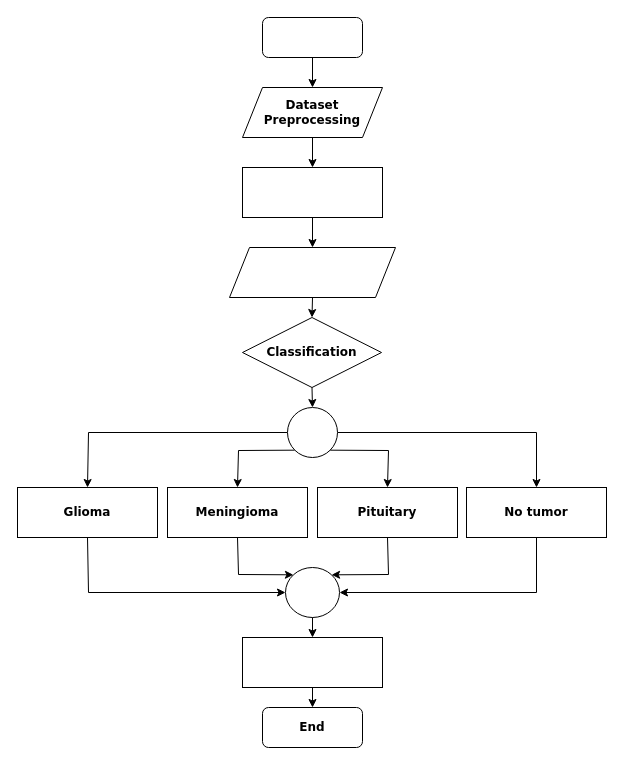
This 624x765 diagram has some shape labels left out. Each missing label, with the centre of its shape:
Classification Model Evaluation: point 312,662
Classification Model Imple mentation: point 312,272
Classification Model Selection: point 312,192
Start: point 312,37
